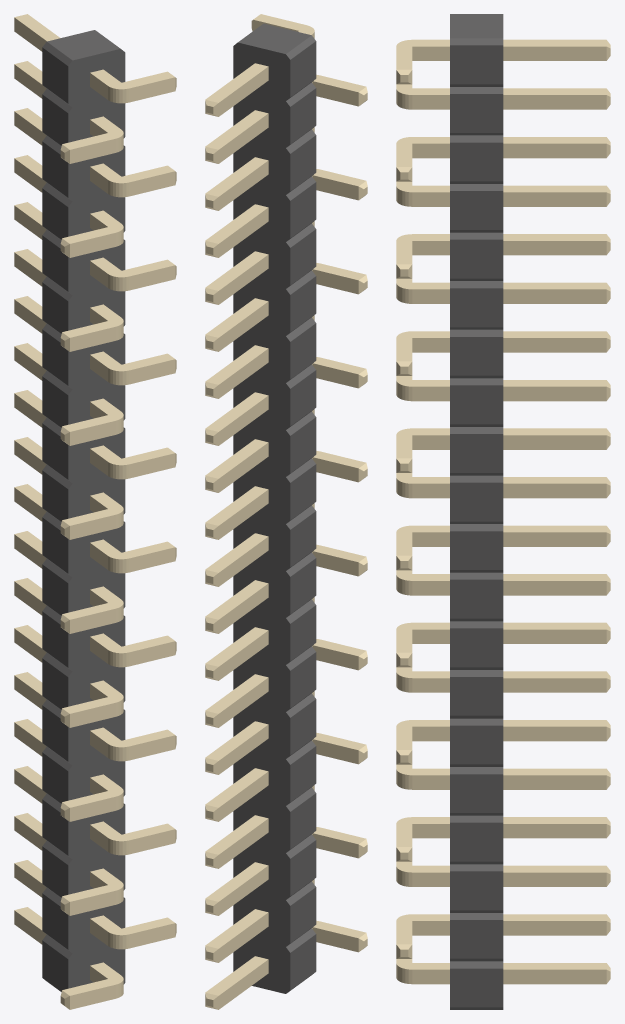
The model's file is PinHeader_1x20_P1.00mm_Vertical_SMD_Pin1Left.glb.
The picture shows the model from 3 angles, left to right: view 1: azimuth 30°, elevation 25°; view 2: azimuth 150°, elevation 25°; view 3: azimuth 270°, elevation 25°; orthographic projection. The views are drawn at different scales.
Parts seen in each view (by area): view 1: Shape_IndexedFaceSet.003, Shape_IndexedFaceSet.001, Shape_IndexedFaceSet.007, Shape_IndexedFaceSet.043, Shape_IndexedFaceSet.103, Shape_IndexedFaceSet.031, Shape_IndexedFaceSet.055, Shape_IndexedFaceSet.019, Shape_IndexedFaceSet.067, Shape_IndexedFaceSet.079, Shape_IndexedFaceSet.091, Shape_IndexedFaceSet.115 (+71 smaller); view 2: Shape_IndexedFaceSet.004, Shape_IndexedFaceSet.001, Shape_IndexedFaceSet.013, Shape_IndexedFaceSet.019, Shape_IndexedFaceSet.031, Shape_IndexedFaceSet.037, Shape_IndexedFaceSet.043, Shape_IndexedFaceSet.055, Shape_IndexedFaceSet.061, Shape_IndexedFaceSet.067, Shape_IndexedFaceSet.079, Shape_IndexedFaceSet.097 (+64 smaller); view 3: Shape_IndexedFaceSet.002, Shape_IndexedFaceSet.028, Shape_IndexedFaceSet.034, Shape_IndexedFaceSet.046, Shape_IndexedFaceSet.058, Shape_IndexedFaceSet.070, Shape_IndexedFaceSet.076, Shape_IndexedFaceSet.100, Shape_IndexedFaceSet.106, Shape_IndexedFaceSet.016, Shape_IndexedFaceSet.088, Shape_IndexedFaceSet.118 (+79 smaller).
Boxes of the visible parts, <box> form: Shape_IndexedFaceSet.003: <box>68,49,125,988</box>; Shape_IndexedFaceSet.001: <box>47,30,120,60</box>; Shape_IndexedFaceSet.007: <box>42,47,68,103</box>; Shape_IndexedFaceSet.043: <box>42,329,68,385</box>; Shape_IndexedFaceSet.103: <box>42,799,68,855</box>; Shape_IndexedFaceSet.031: <box>42,235,68,291</box>; Shape_IndexedFaceSet.055: <box>42,423,68,479</box>; Shape_IndexedFaceSet.019: <box>42,141,68,197</box>; Shape_IndexedFaceSet.067: <box>42,517,68,573</box>; Shape_IndexedFaceSet.079: <box>42,611,68,667</box>; Shape_IndexedFaceSet.091: <box>42,705,68,761</box>; Shape_IndexedFaceSet.115: <box>42,893,68,949</box>; Shape_IndexedFaceSet.004: <box>233,42,290,993</box>; Shape_IndexedFaceSet.001: <box>238,23,311,53</box>; Shape_IndexedFaceSet.013: <box>290,88,316,144</box>; Shape_IndexedFaceSet.019: <box>290,135,316,191</box>; Shape_IndexedFaceSet.031: <box>290,229,316,285</box>; Shape_IndexedFaceSet.037: <box>290,276,316,332</box>; Shape_IndexedFaceSet.043: <box>290,323,316,379</box>; Shape_IndexedFaceSet.055: <box>290,417,316,473</box>; Shape_IndexedFaceSet.061: <box>290,464,316,520</box>; Shape_IndexedFaceSet.067: <box>290,511,316,567</box>; Shape_IndexedFaceSet.079: <box>290,605,316,661</box>; Shape_IndexedFaceSet.097: <box>290,746,316,802</box>; Shape_IndexedFaceSet.002: <box>450,45,503,84</box>; Shape_IndexedFaceSet.028: <box>450,239,503,278</box>; Shape_IndexedFaceSet.034: <box>450,288,503,327</box>; Shape_IndexedFaceSet.046: <box>450,385,503,424</box>; Shape_IndexedFaceSet.058: <box>450,482,503,521</box>; Shape_IndexedFaceSet.070: <box>450,579,503,618</box>; Shape_IndexedFaceSet.076: <box>450,628,503,667</box>; Shape_IndexedFaceSet.100: <box>450,822,503,861</box>; Shape_IndexedFaceSet.106: <box>450,871,503,910</box>; Shape_IndexedFaceSet.016: <box>450,142,503,181</box>; Shape_IndexedFaceSet.088: <box>450,725,503,764</box>; Shape_IndexedFaceSet.118: <box>450,968,503,1007</box>.
Bounding box in the file's own units: 0.984 × 7.87 × 1.58.
